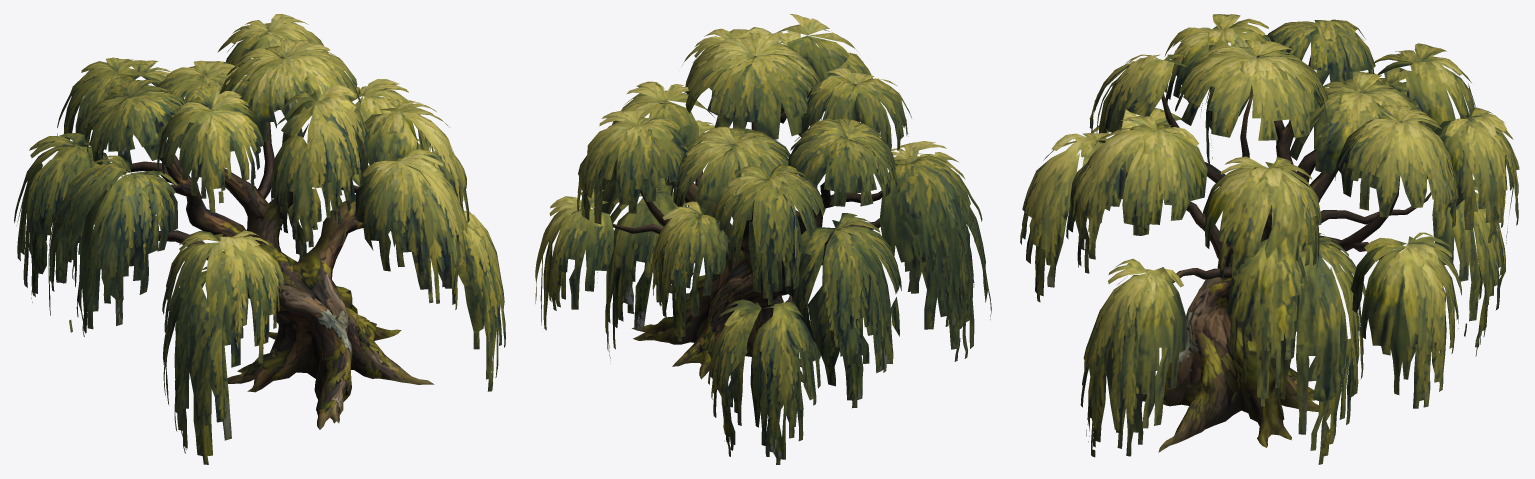
The model's file is act1_kit_v1_old_willow.glb.
3 renders of one model, left to right at view 1: azimuth 30°, elevation 25°; view 2: azimuth 150°, elevation 25°; view 3: azimuth 270°, elevation 25°, orthographic. The views are drawn at different scales.
Parts seen in each view (by area): view 1: act1_kit_v1_old_willow; view 2: act1_kit_v1_old_willow; view 3: act1_kit_v1_old_willow.
Part boxes in pixels (left/top/right/bottom): act1_kit_v1_old_willow: left=14, top=14, right=505, bottom=464; act1_kit_v1_old_willow: left=535, top=14, right=991, bottom=464; act1_kit_v1_old_willow: left=1020, top=14, right=1519, bottom=464.
Bounding box in the file's own units: 0.9503 × 0.7872 × 1.
Materials: 1 (1 with a texture image).
